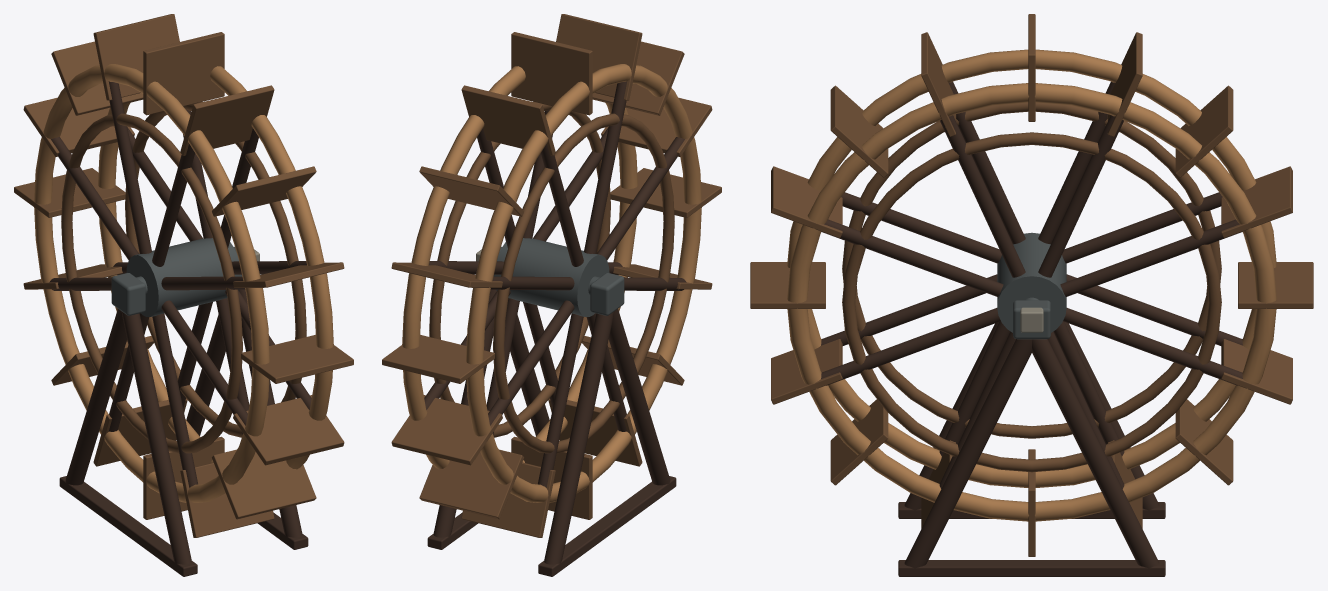
Rendered from detail_water_wheel.glb.
The picture shows the model from 3 angles, left to right: view 1: azimuth 30°, elevation 25°; view 2: azimuth 150°, elevation 25°; view 3: azimuth 270°, elevation 25°; orthographic projection. The views are drawn at different scales.
Visible parts, largest first — view 1: wood, metal; view 2: wood, metal; view 3: wood, metal.
Boxes of the visible parts, x1,y1,x2,y2 form: wood: (14,14,353,576); metal: (111,238,259,316); wood: (382,14,721,576); metal: (476,238,624,316); wood: (750,14,1313,576); metal: (997,232,1066,339).
Bounding box in the file's own units: 1.2 × 4 × 4.
